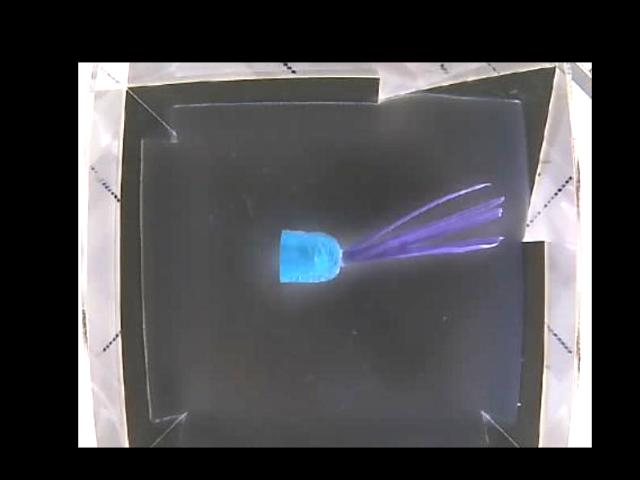Carrot: (278, 227, 395, 285)
